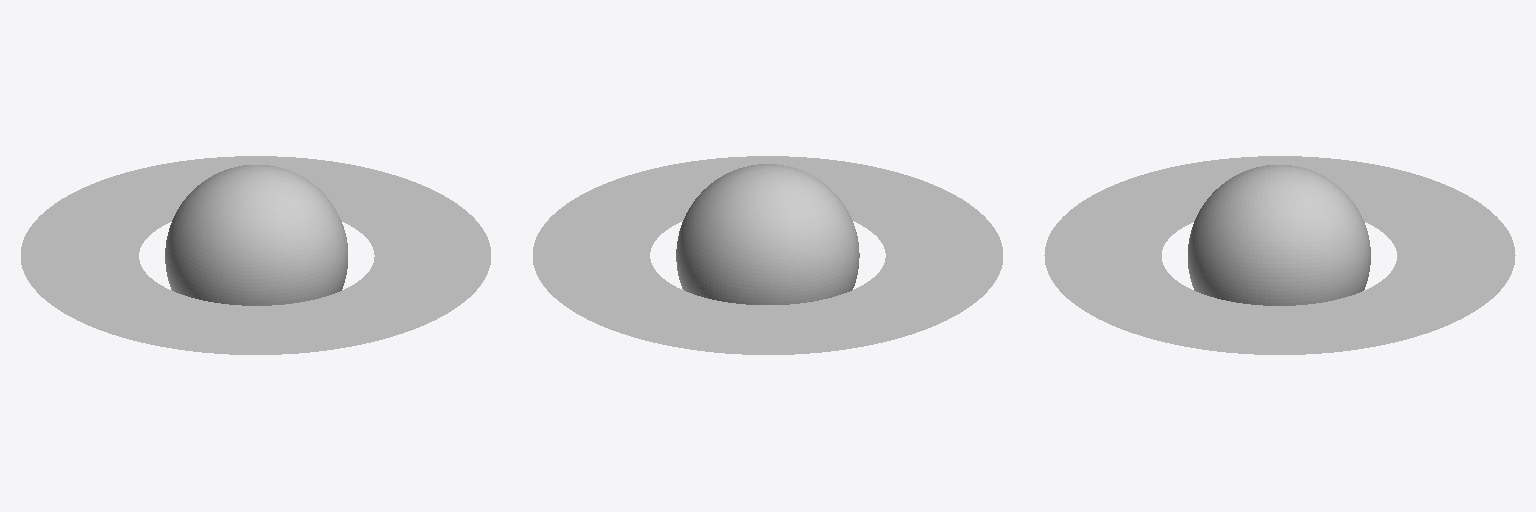
The model's file is Saturn.obj.
The picture shows the model from 3 angles: view 1: azimuth 30°, elevation 25°; view 2: azimuth 150°, elevation 25°; view 3: azimuth 270°, elevation 25°; orthographic projection.
Parts seen in each view (by area): view 1: Circle, Cube_Cube.001; view 2: Circle, Cube_Cube.001; view 3: Circle, Cube_Cube.001.
Boxes of the visible parts, x1=… form: Circle: x1=21, y1=156, x2=490, y2=354; Cube_Cube.001: x1=165, y1=165, x2=347, y2=305; Circle: x1=533, y1=156, x2=1002, y2=354; Cube_Cube.001: x1=676, y1=164, x2=859, y2=304; Circle: x1=1044, y1=156, x2=1515, y2=354; Cube_Cube.001: x1=1188, y1=165, x2=1370, y2=305.
Bounding box in the file's own units: 4.4 × 1.71 × 4.4.